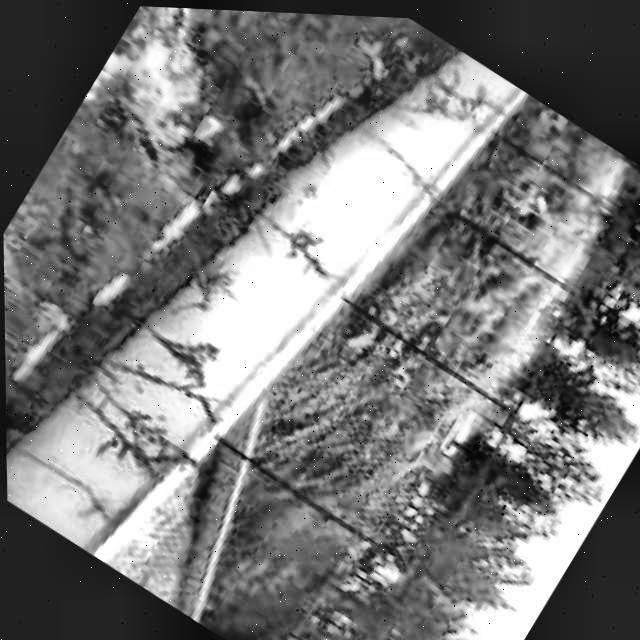Fire: (62, 2, 280, 209)
